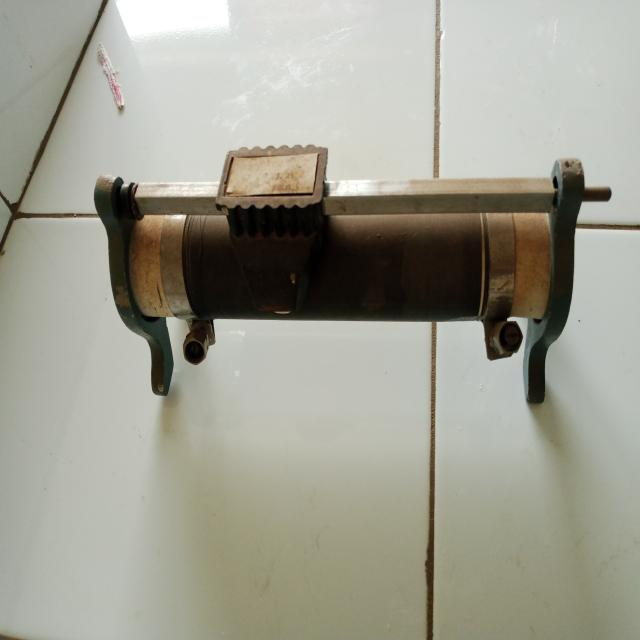Rheostat: (81, 125, 630, 411)
